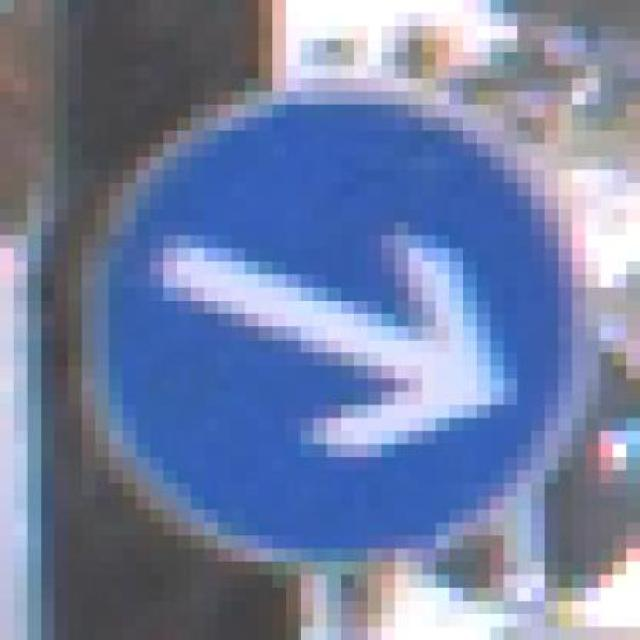Keep-Right: (55, 65, 627, 613)
